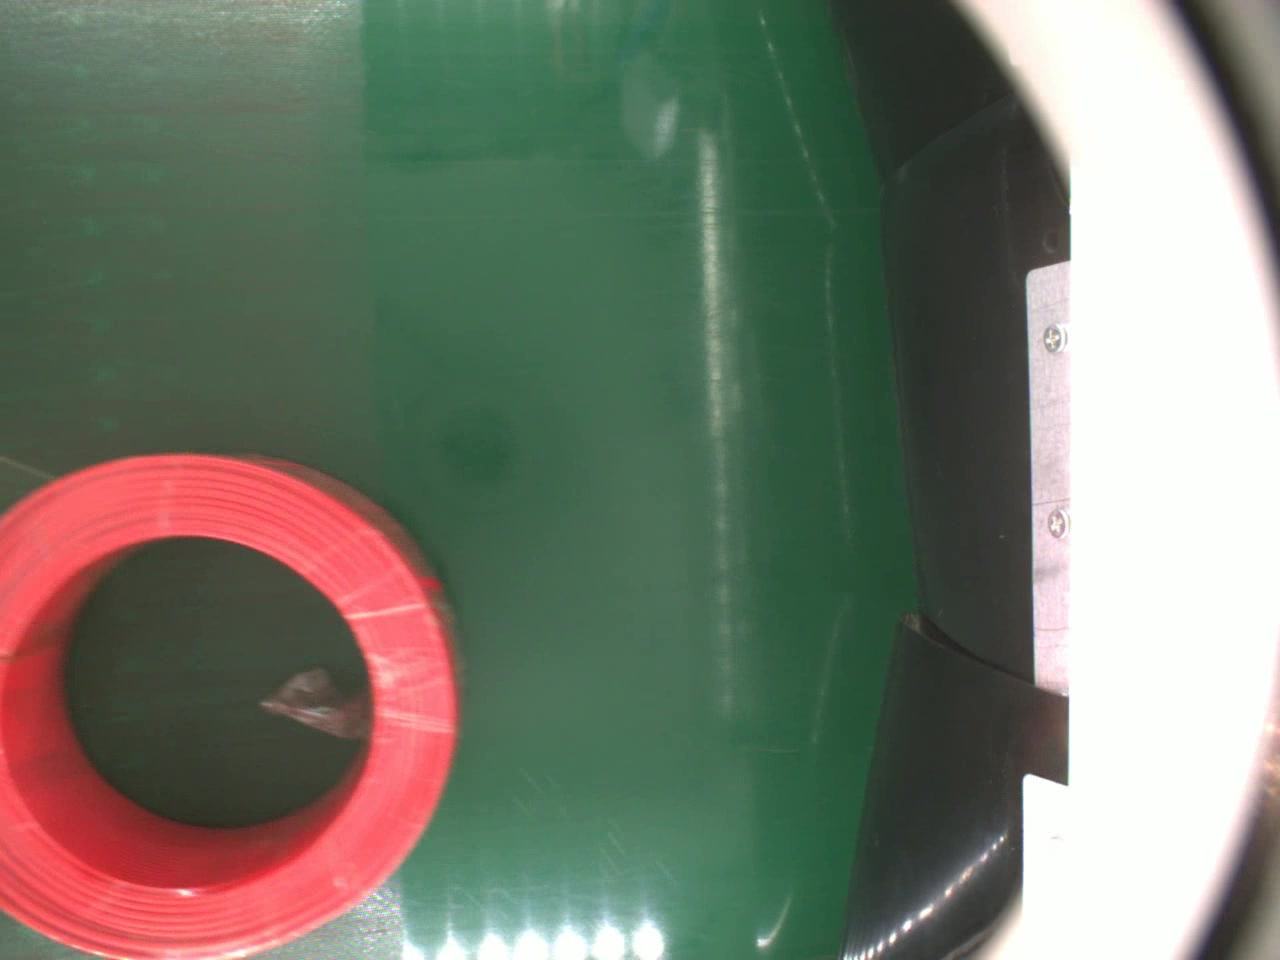red: (0, 448, 465, 960)
